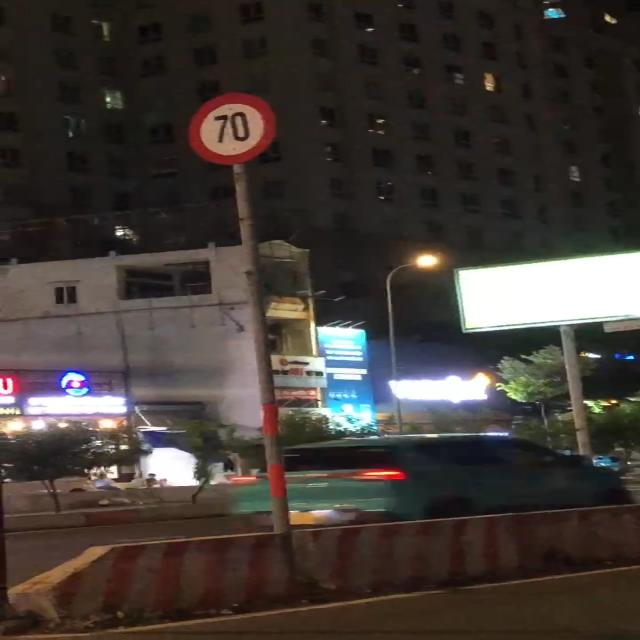Bien bao toc do toi da cho phep: (180, 88, 286, 172)
